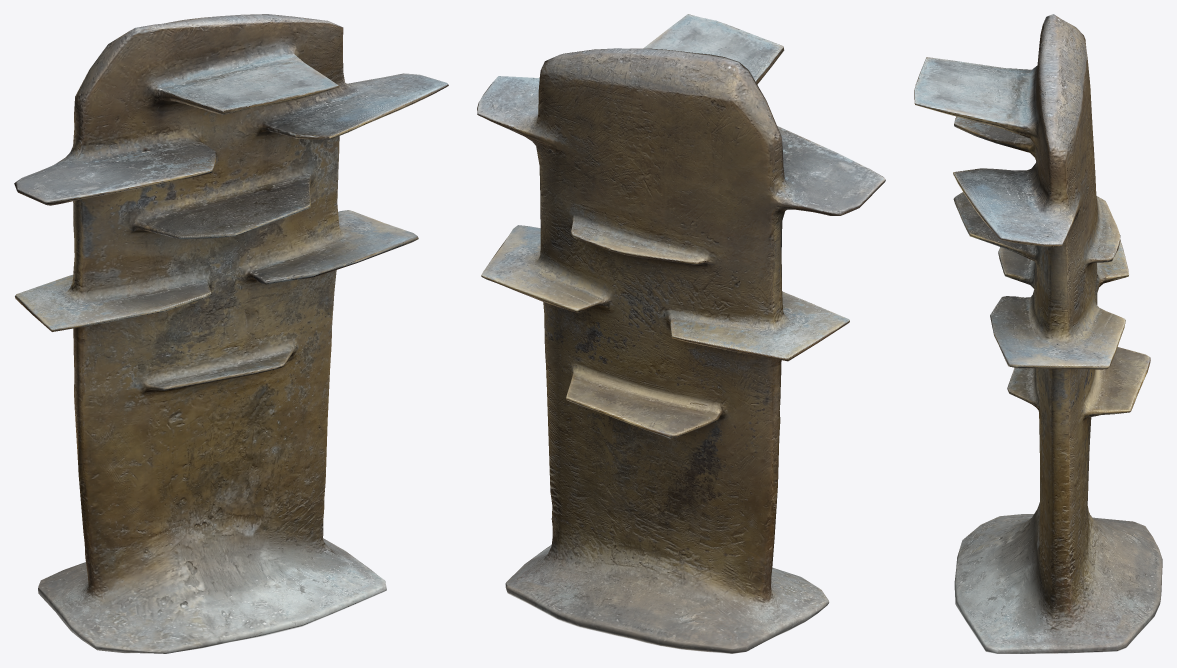
Rendered from MoutonVariation.glb.
3 renders of one model, left to right at view 1: azimuth 30°, elevation 25°; view 2: azimuth 150°, elevation 25°; view 3: azimuth 270°, elevation 25°, orthographic. The views are drawn at different scales.
Visible parts, largest first — view 1: MoutonVariation_low; view 2: MoutonVariation_low; view 3: MoutonVariation_low.
Boxes of the visible parts, box(x1,y1,x2,y2) form: MoutonVariation_low: box(14, 14, 448, 653); MoutonVariation_low: box(477, 14, 885, 653); MoutonVariation_low: box(914, 14, 1162, 653).
Bounding box in the file's own units: 1.84 × 2.53 × 1.05.
1 material, 1 textured.
